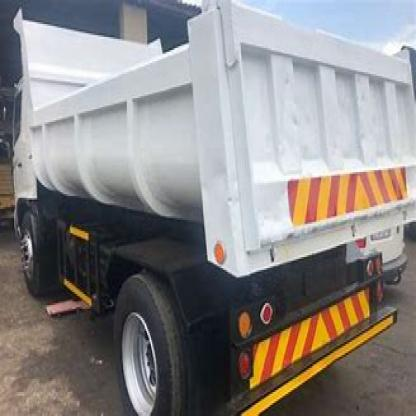dump_truck: (6, 11, 415, 414)
